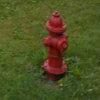Hydrant: (34, 5, 77, 92)
